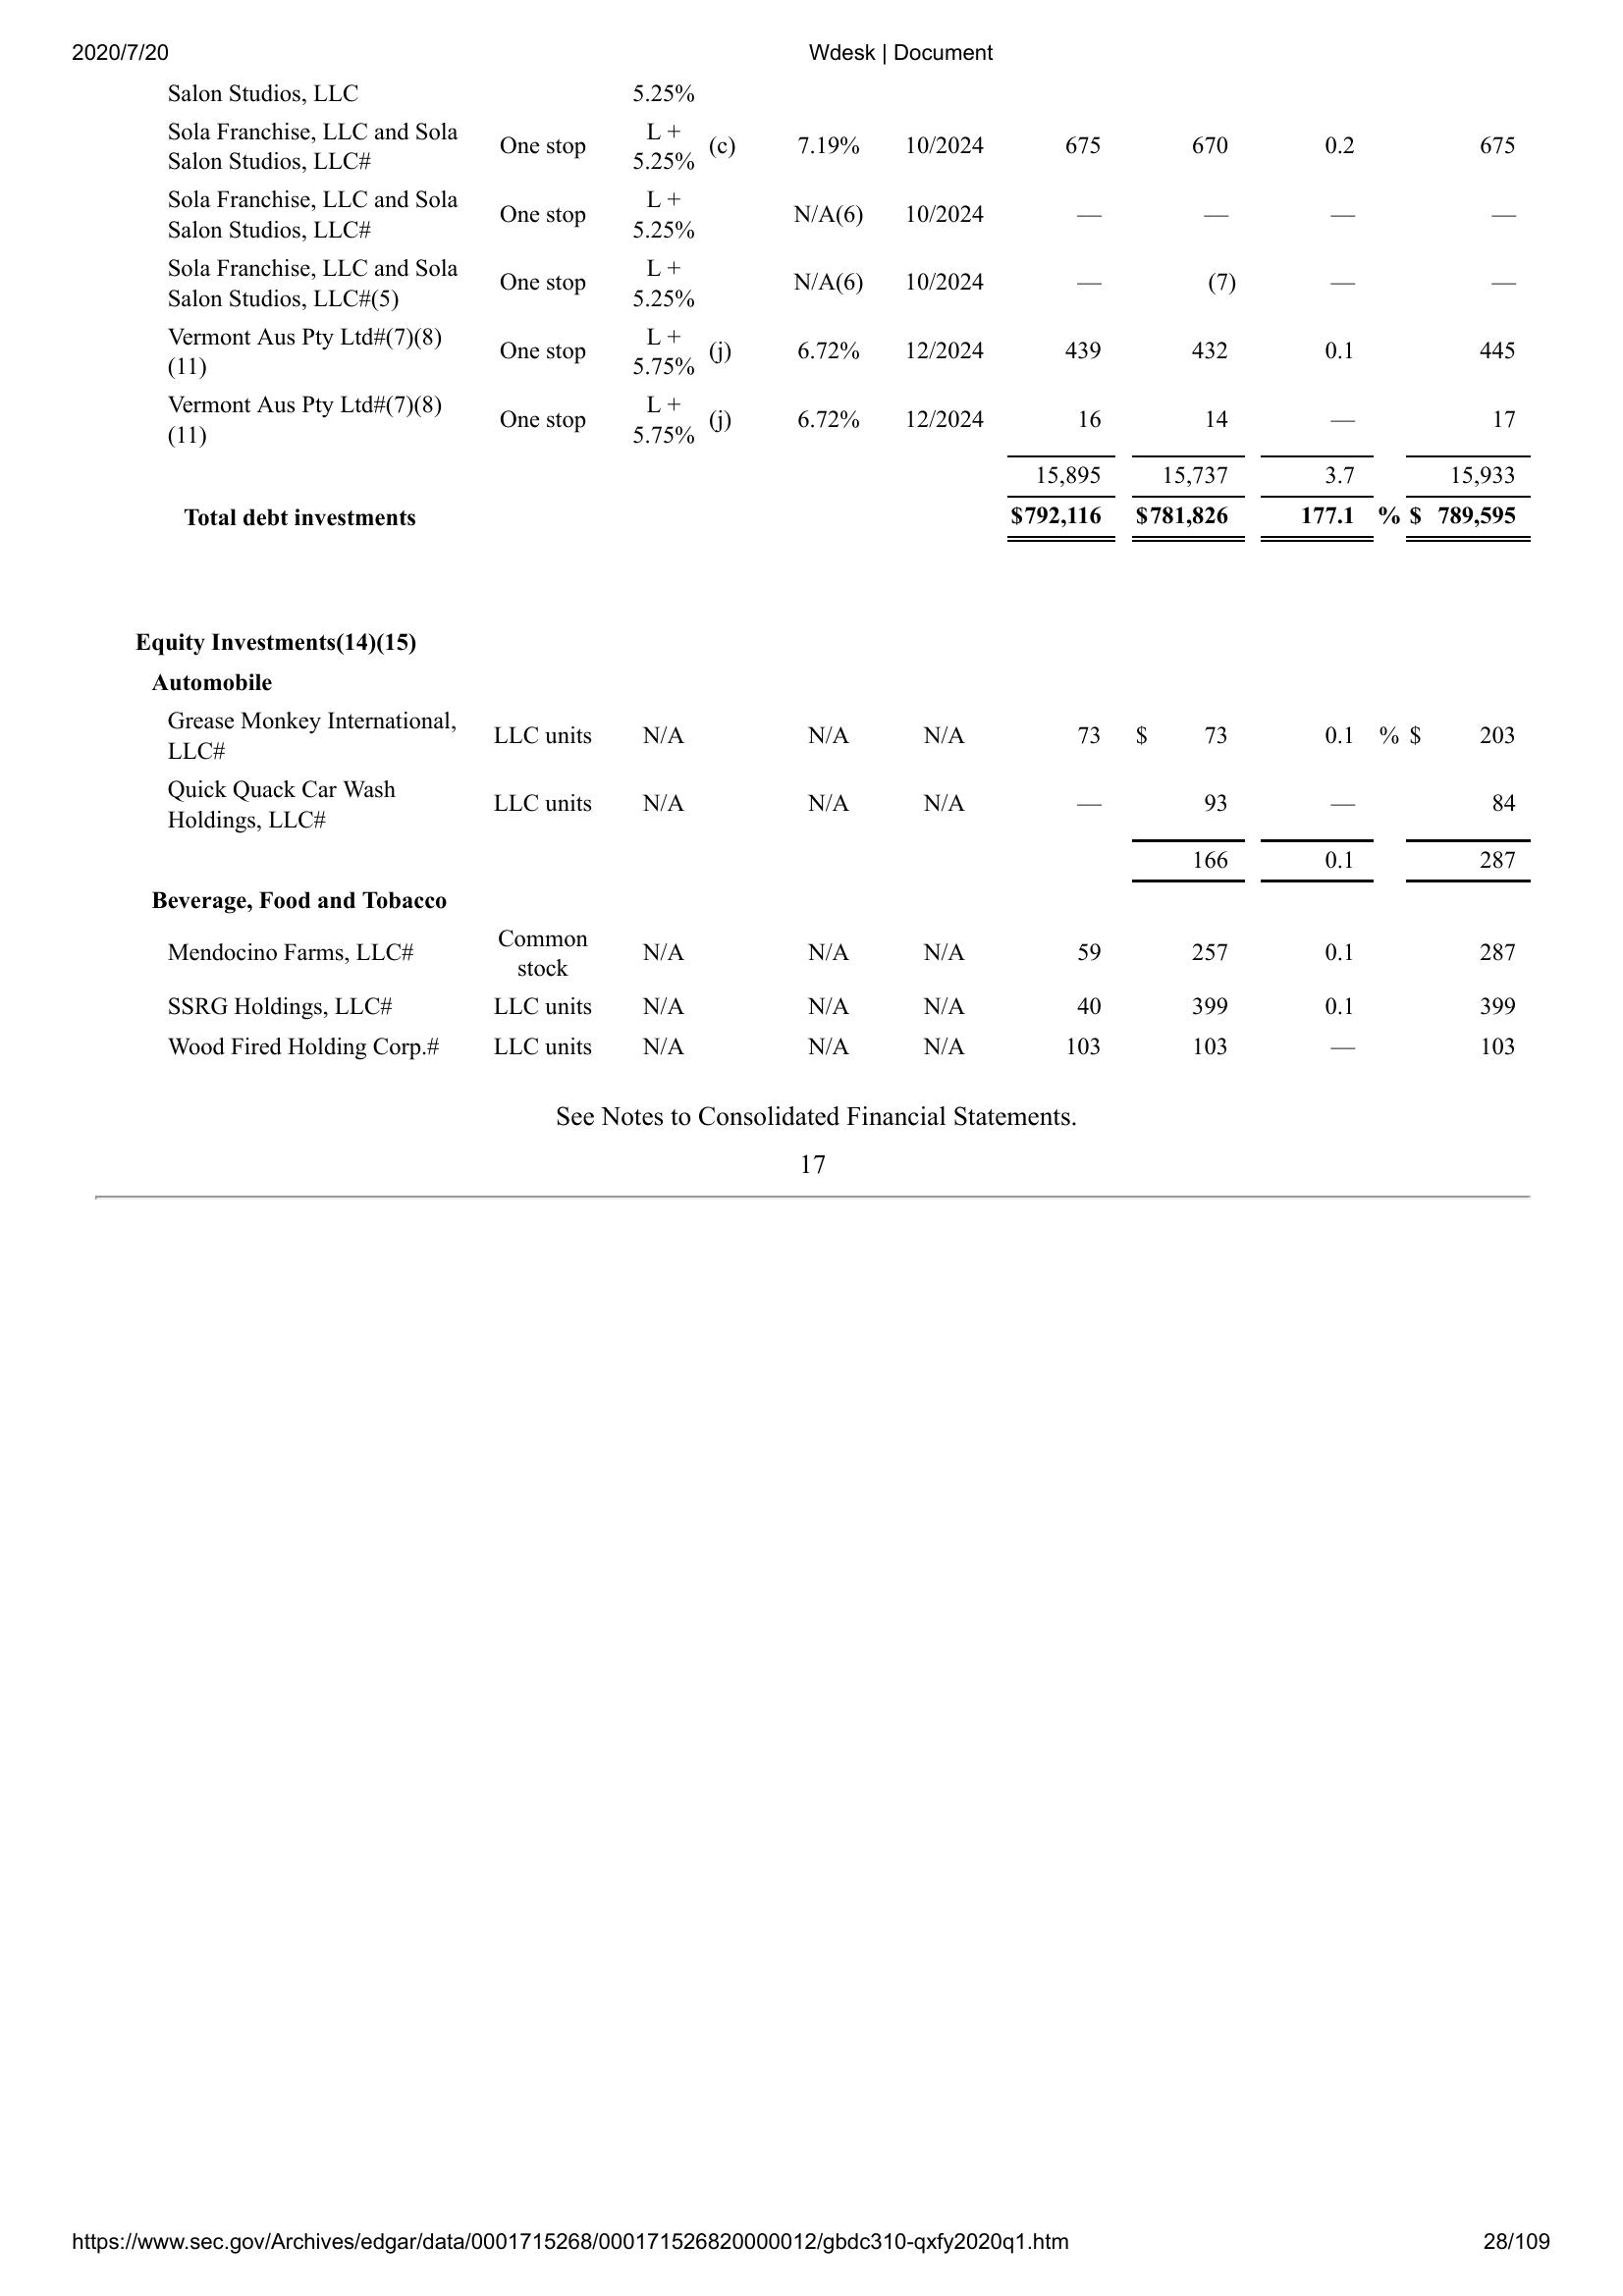table: (141, 75, 1535, 1058)
